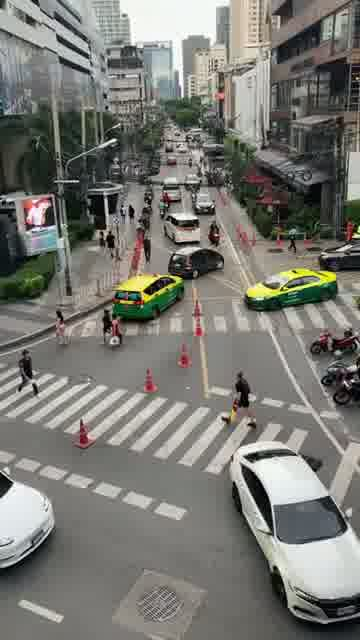bike: (320, 349, 359, 385), (310, 327, 359, 354), (332, 374, 359, 404), (207, 220, 219, 246), (158, 199, 165, 218)
car: (228, 441, 360, 625), (0, 470, 55, 569), (243, 267, 337, 311), (111, 272, 184, 320), (167, 246, 224, 278), (317, 238, 360, 272), (163, 212, 201, 244), (191, 191, 215, 215), (160, 176, 181, 202), (183, 173, 201, 190)
pedestrian: (221, 367, 257, 429), (15, 348, 40, 398), (98, 309, 111, 345), (109, 313, 122, 348), (53, 310, 66, 344), (142, 235, 151, 264), (106, 230, 115, 258), (287, 227, 296, 253), (98, 230, 106, 256), (127, 204, 135, 224), (119, 204, 126, 224), (227, 179, 234, 198)
